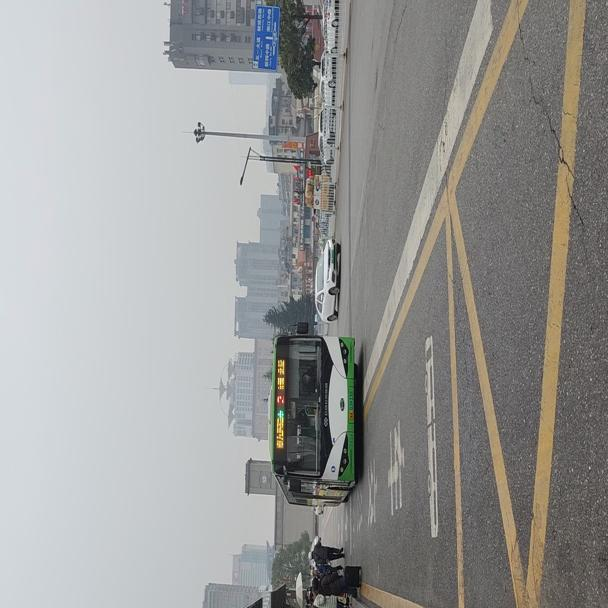bus: (267, 320, 355, 510)
screen: (273, 387, 284, 409)
